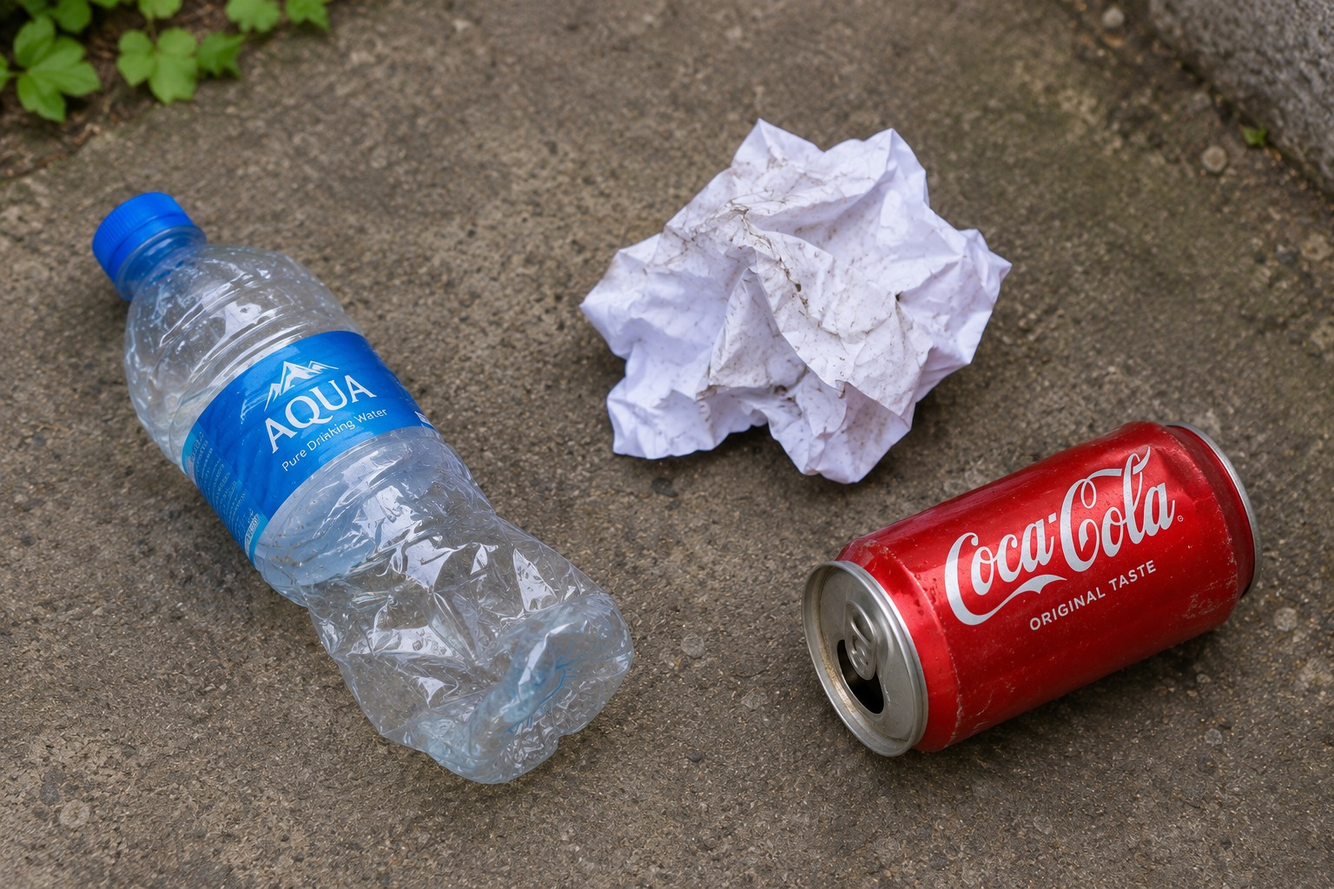metal: (800, 418, 1254, 756)
paper: (574, 116, 1014, 480)
plastic: (87, 187, 634, 782)
